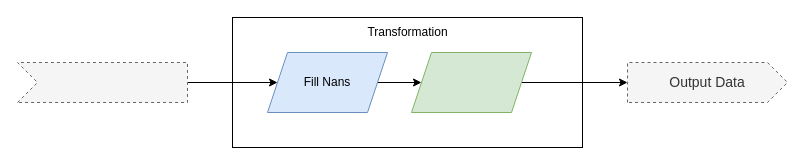
Some shapes in this 805 by 165 pixel diagram are drawn without their labels. The centre of each missing label's shape, as x and y in pixels:
"Input Data" belongs at point (102, 82).
"Max pooling" belongs at point (471, 82).
